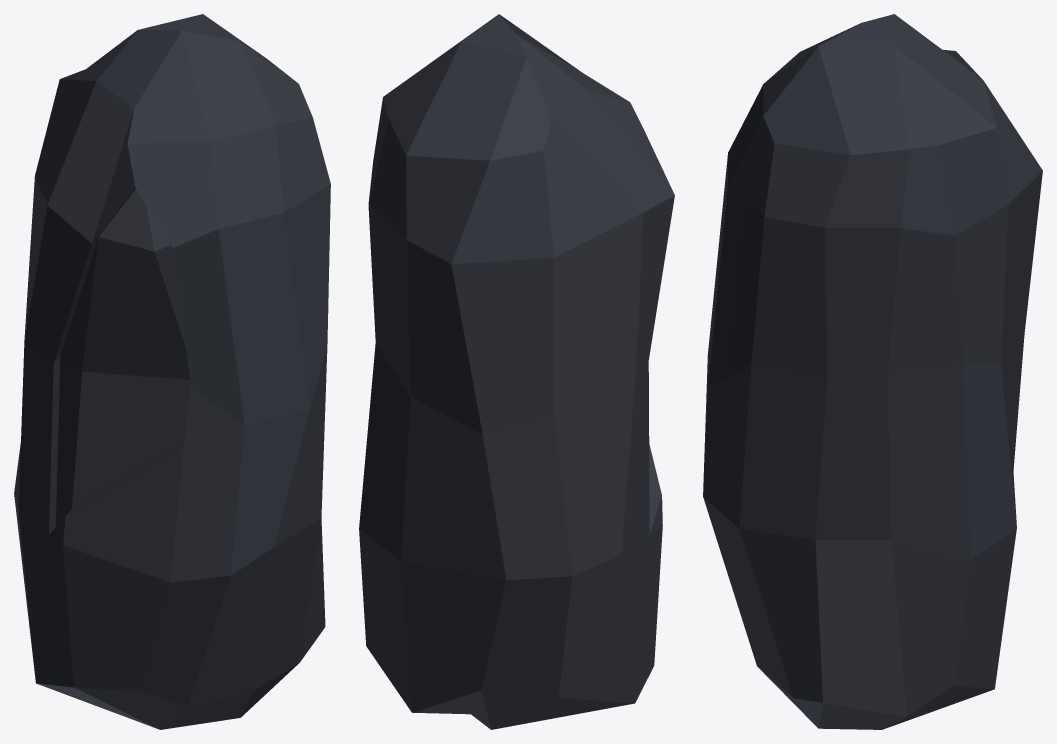
Rendered from rock2.fbx.
3 views of the same model, side by side, from view 1: azimuth 30°, elevation 25°; view 2: azimuth 150°, elevation 25°; view 3: azimuth 270°, elevation 25° (orthographic).
Visible parts, largest first — view 1: Cube; view 2: Cube; view 3: Cube.
Boxes of the visible parts, box(x1,y1,x2,y2) form: Cube: box(14, 14, 330, 729); Cube: box(359, 14, 674, 729); Cube: box(703, 14, 1042, 729).
Size of the model in its own units: 2.7 by 6.68 by 2.98.
